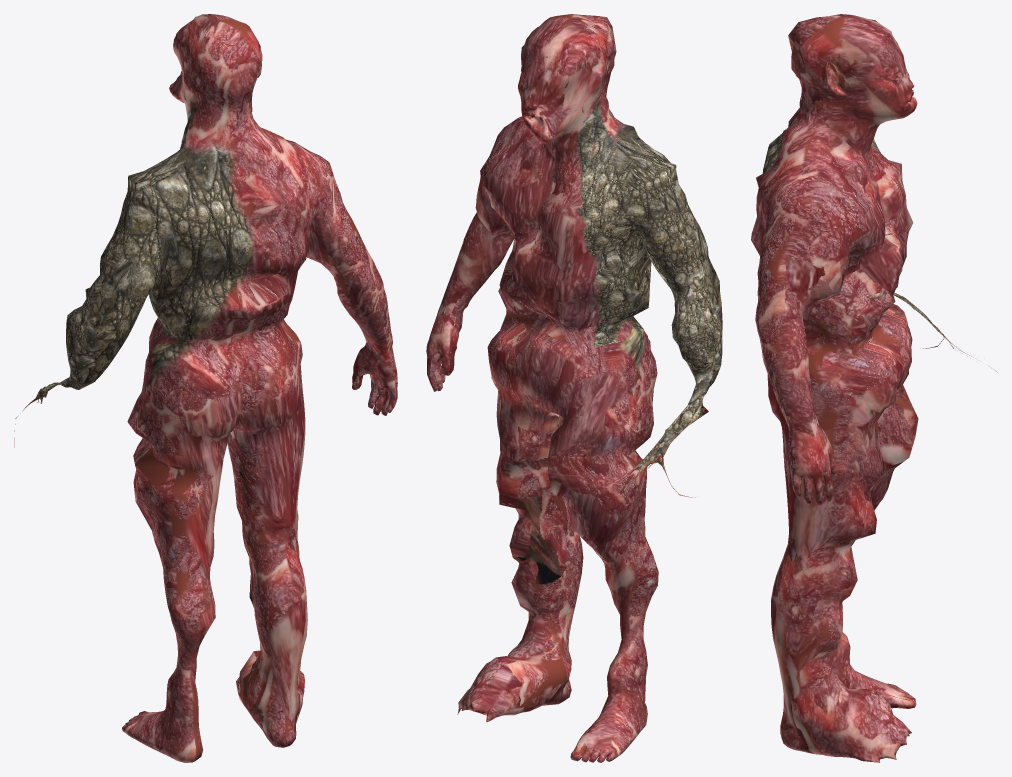
Rendered from MyZombie1.gltf.
3 renders of one model, left to right at view 1: azimuth 30°, elevation 25°; view 2: azimuth 150°, elevation 25°; view 3: azimuth 270°, elevation 25°, orthographic.
Parts seen in each view (by area): view 1: Realistic_White_Male_Low_Poly; view 2: Realistic_White_Male_Low_Poly; view 3: Realistic_White_Male_Low_Poly.
Part boxes in pixels (x1,y1,x2,y2): Realistic_White_Male_Low_Poly: [14, 14, 397, 762]; Realistic_White_Male_Low_Poly: [426, 14, 722, 762]; Realistic_White_Male_Low_Poly: [751, 14, 997, 762].
Bounding box in the file's own units: 0.856 × 1.8 × 0.5677.
Materials: 1 (1 with a texture image).
